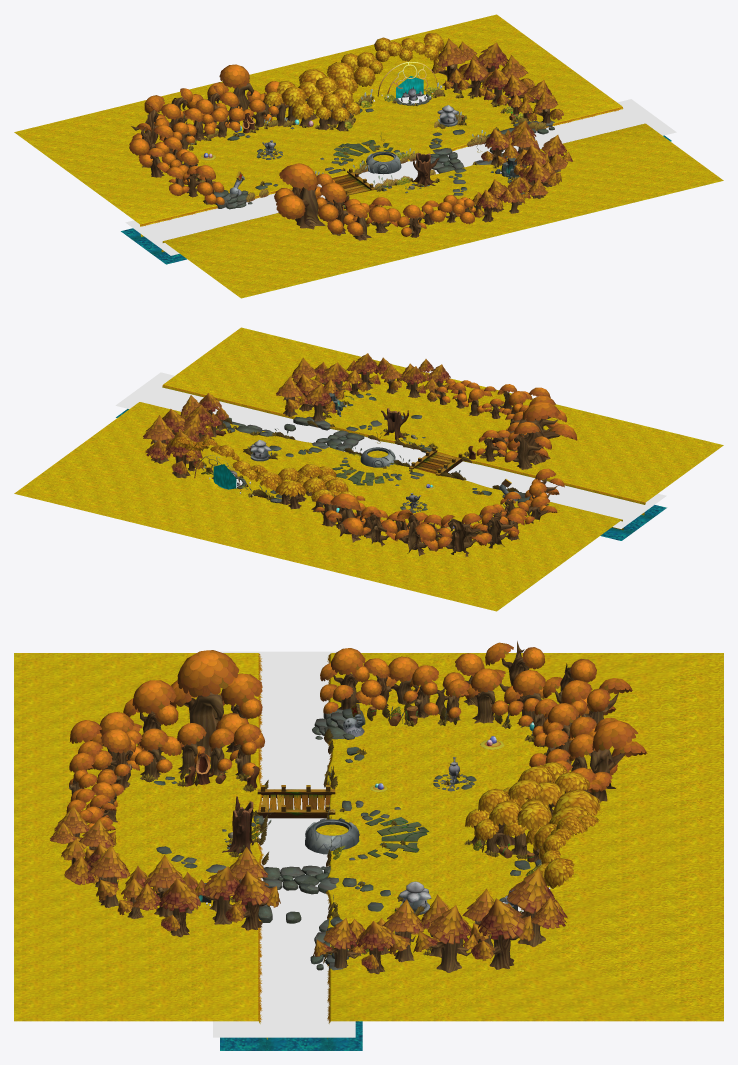
The model's file is 18_04_Chien_Truong_Rung_Phong.glb.
3 renders of one model, top to bottom at view 1: azimuth 30°, elevation 25°; view 2: azimuth 150°, elevation 25°; view 3: azimuth 270°, elevation 25°, orthographic. The views are drawn at different scales.
Parts seen in each view (by area): view 1: 18_04_Chien_Truong_Rung_Phong; view 2: 18_04_Chien_Truong_Rung_Phong; view 3: 18_04_Chien_Truong_Rung_Phong.
Part boxes in pixels (<box>): 18_04_Chien_Truong_Rung_Phong: <box>14,14,723,298</box>; 18_04_Chien_Truong_Rung_Phong: <box>14,327,723,611</box>; 18_04_Chien_Truong_Rung_Phong: <box>14,641,723,1050</box>.
Bounding box in the file's own units: 147 × 34.91 × 114.
Materials: 29 (27 with a texture image).
